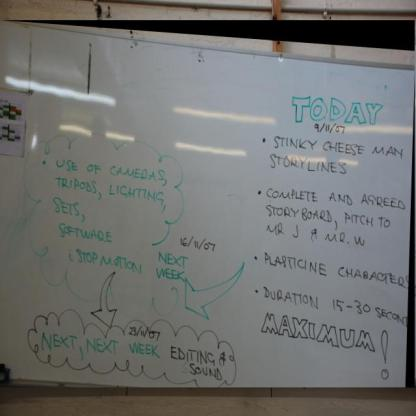Handwritten text: (248, 247, 411, 294), (252, 307, 384, 361), (42, 169, 173, 219), (266, 131, 409, 171), (256, 197, 396, 237), (45, 151, 174, 190), (260, 184, 410, 216), (32, 325, 160, 361), (256, 216, 370, 255), (286, 86, 384, 124), (251, 279, 330, 319), (168, 338, 232, 384), (260, 151, 358, 181), (71, 244, 143, 276), (366, 294, 414, 331), (50, 221, 121, 244), (153, 242, 190, 285), (46, 191, 87, 218)
Whiteboard: (0, 18, 415, 389)
